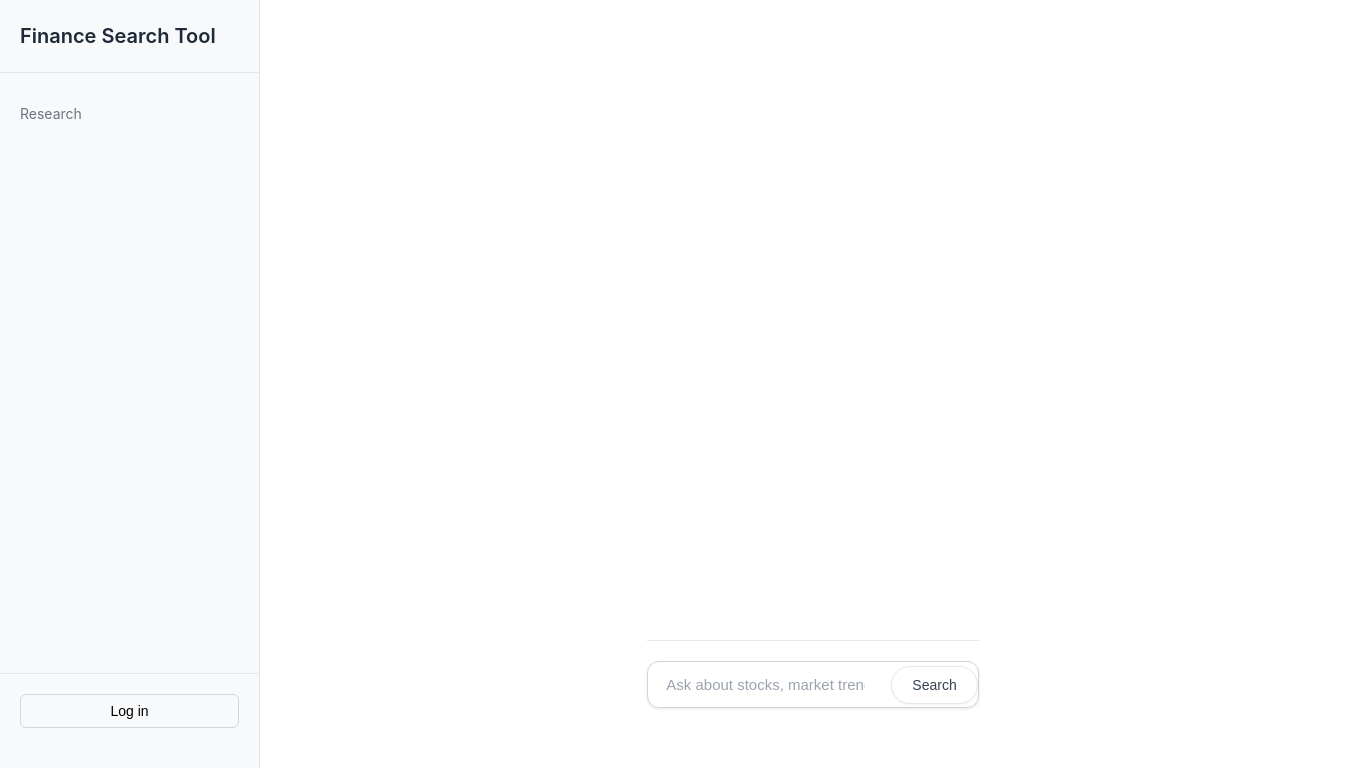
App Integration Tests › error handling works across the entire app
Step 1. Type "test query" into the field with placeholder "Ask about stocks, market trends, or financial analysis..." → (766, 684), box [648,662,883,707]
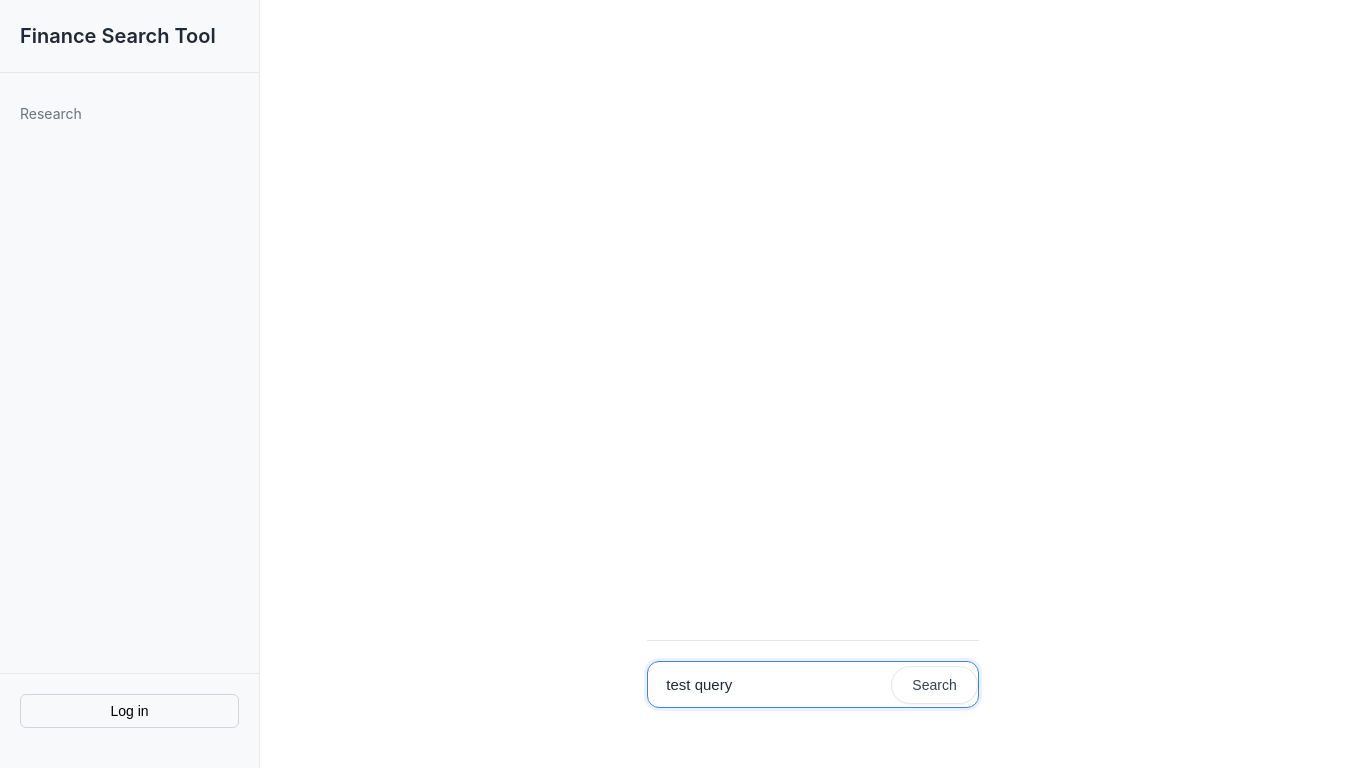
Step 2. Click the button "Search" → (934, 684), box [891,666,978,704]
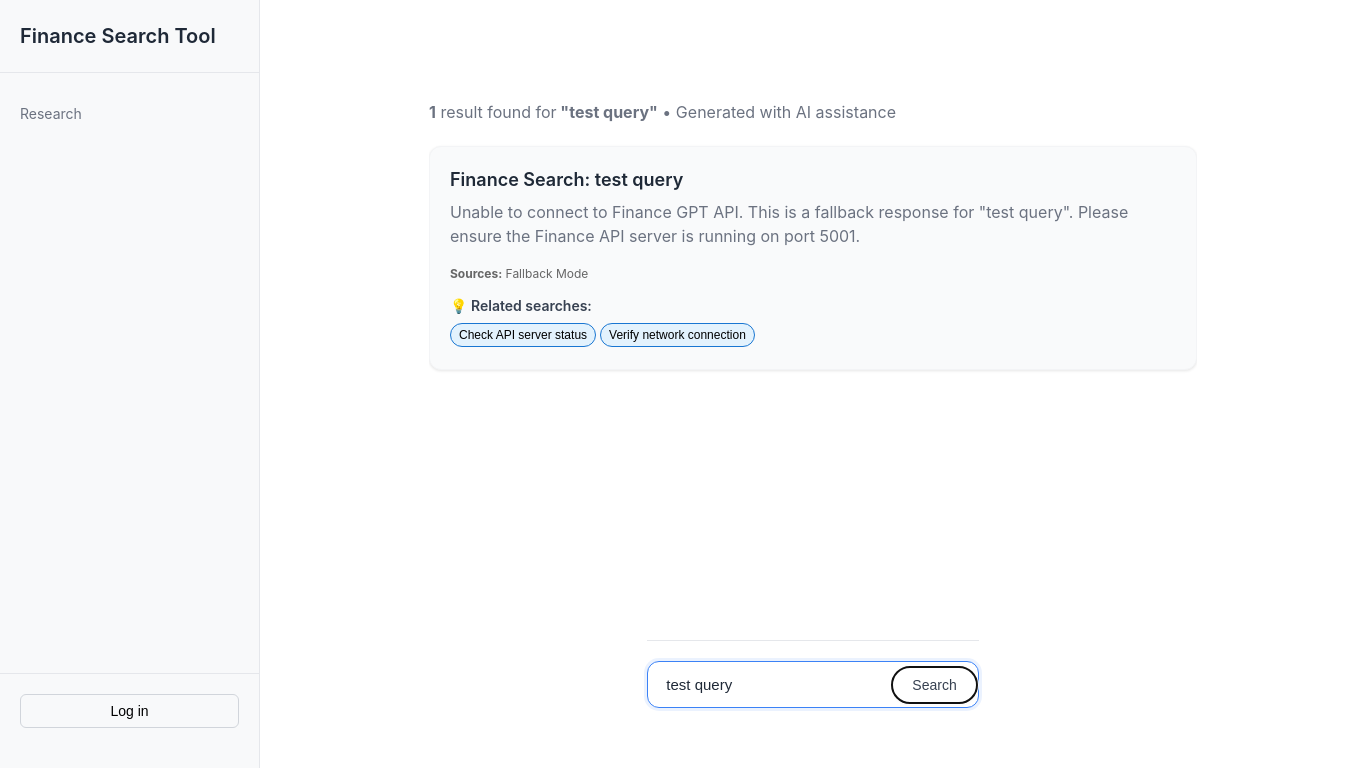
Now the text "Finance Search: test query" is shown, box [450,169,683,190]
